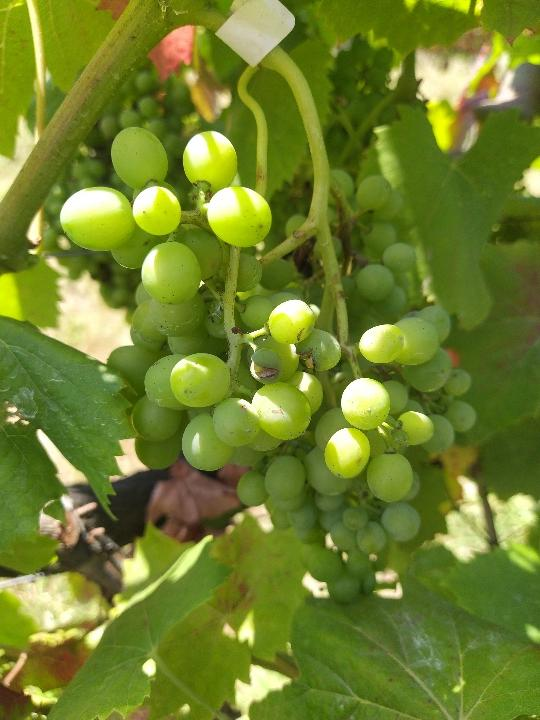grape: (57, 124, 478, 603)
